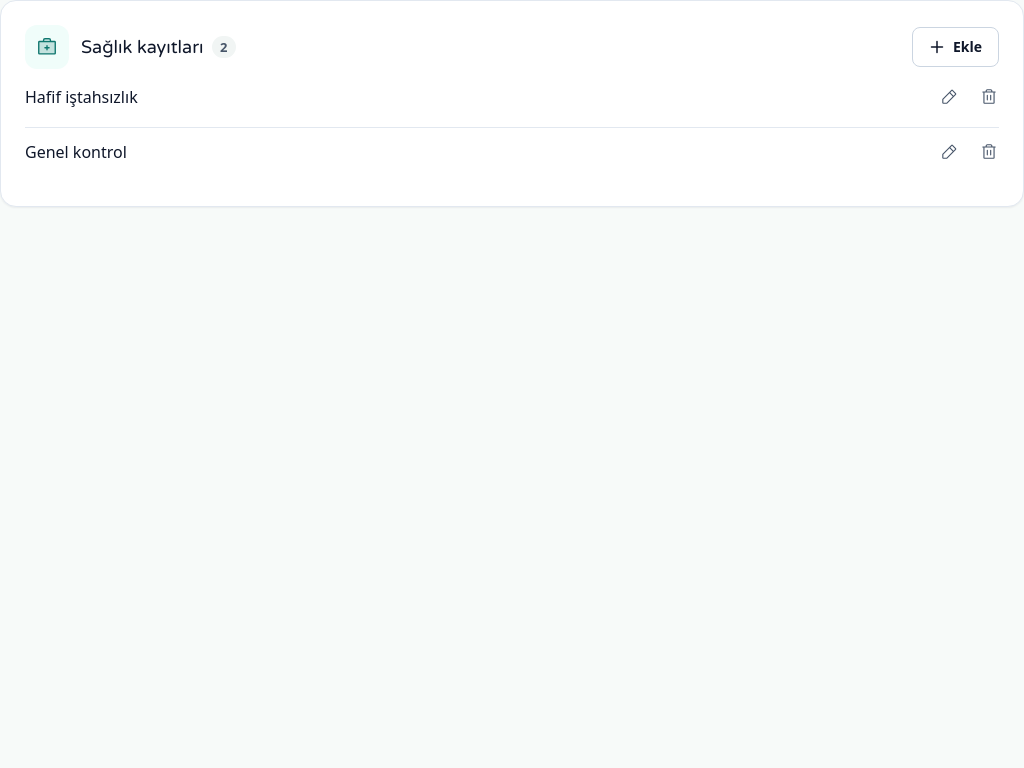
Scenario: RecordSection › asks for confirmation before deleting
Step 1. Click the button named "2026-03-10 tarihli sağlık kaydını sil" → (989, 152), box x1=971 y1=134 x2=1007 y2=170
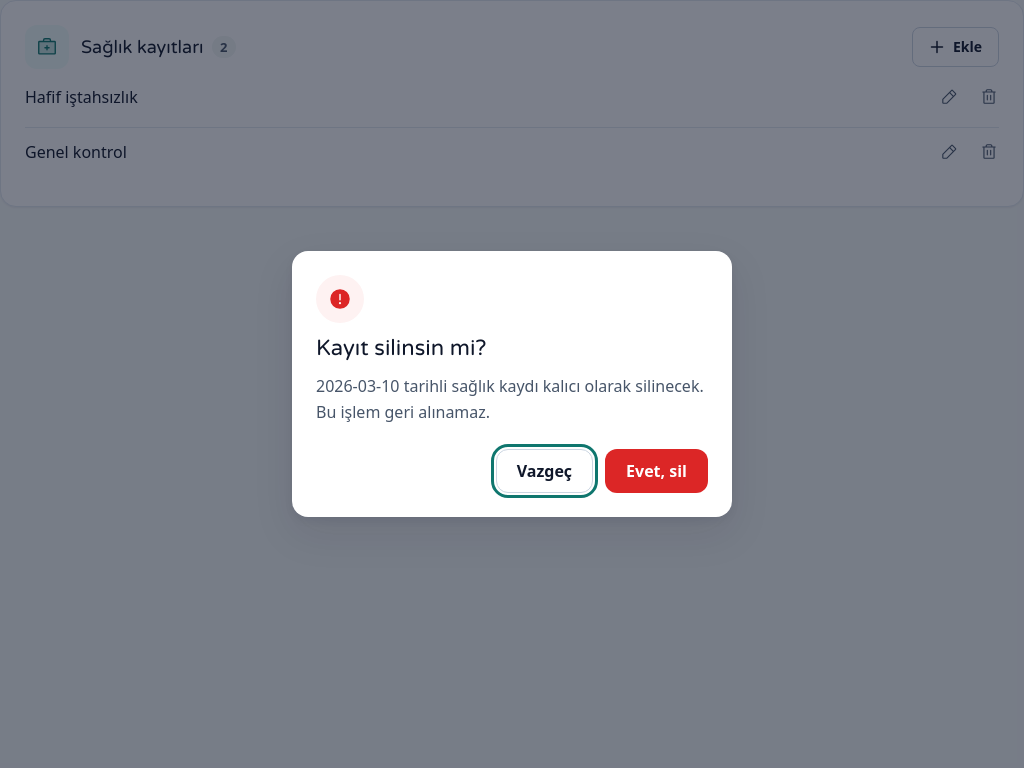
Result: the dialog shows "2026-03-10 tarihli sağlık kaydı kalıcı olarak silinecek" at x1=316 y1=375 x2=704 y2=423
Step 2. Click the button "Evet, sil" → (657, 471), box x1=605 y1=449 x2=708 y2=493
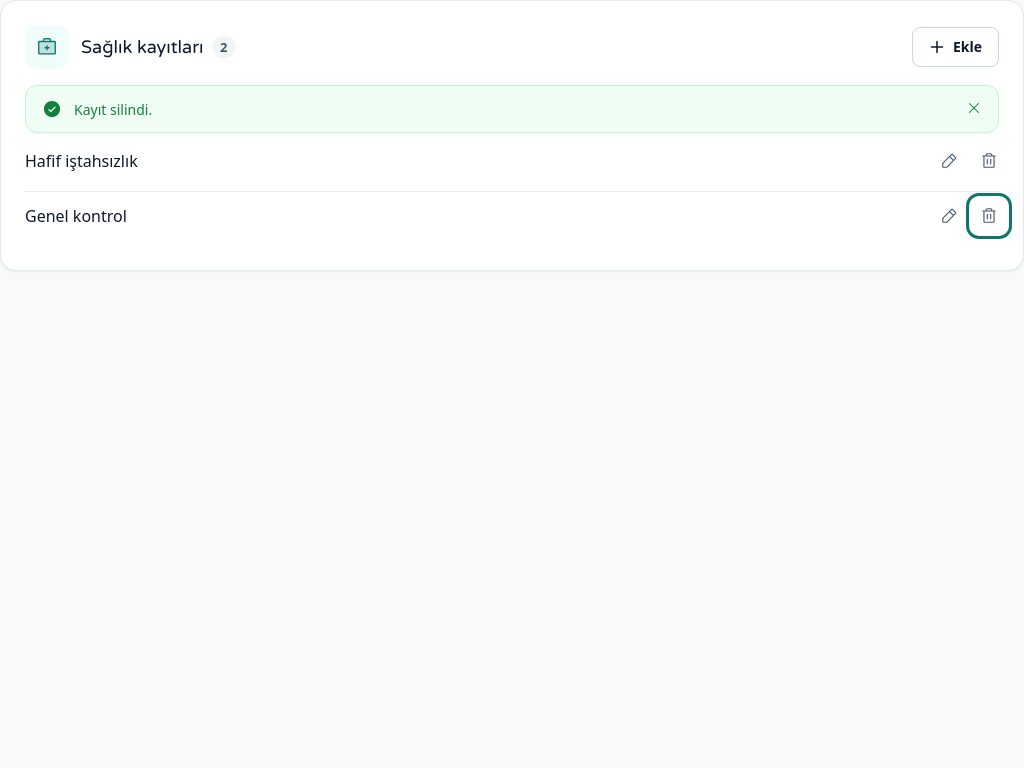
Result: the text "Kayıt silindi." is shown at x1=74 y1=100 x2=152 y2=119
